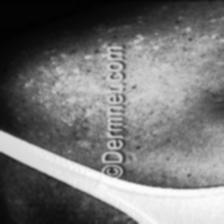Toxin: (40, 44, 96, 94)
